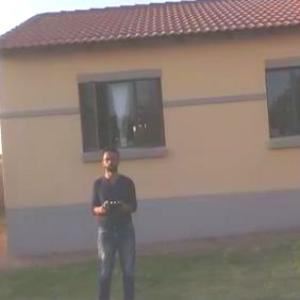follow: (87, 138, 143, 299)
